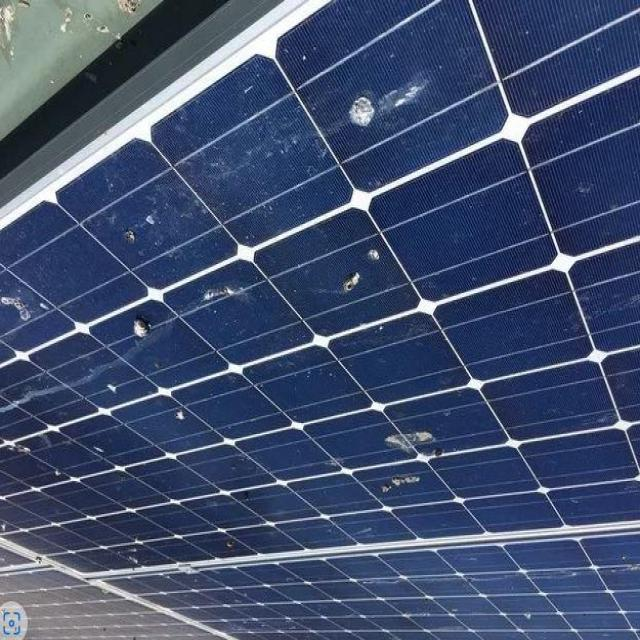soiled: (2, 9, 634, 568)
